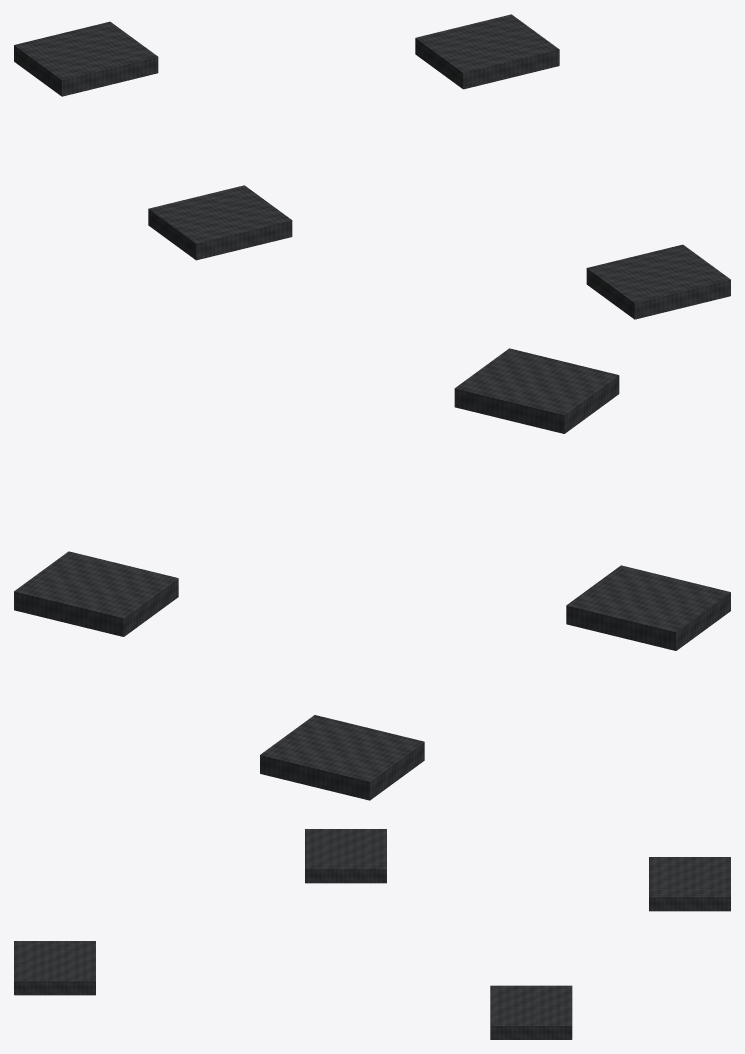
The model's file is TempleDistrict_Basalt_1.fbx.
3 renders of one model, top to bottom at view 1: azimuth 30°, elevation 25°; view 2: azimuth 150°, elevation 25°; view 3: azimuth 270°, elevation 25°, orthographic. The views are drawn at different scales.
Parts seen in each view (by area): view 1: TempleDistrict_Basalt_1; view 2: TempleDistrict_Basalt_1; view 3: TempleDistrict_Basalt_1.
Part boxes in pixels (x1,y1,x2,y2): TempleDistrict_Basalt_1: (14,14,730,319); TempleDistrict_Basalt_1: (14,348,730,800); TempleDistrict_Basalt_1: (14,829,730,1039).
Bounding box in the file's own units: 35200 × 1200 × 54200.
1 material, 1 textured.
